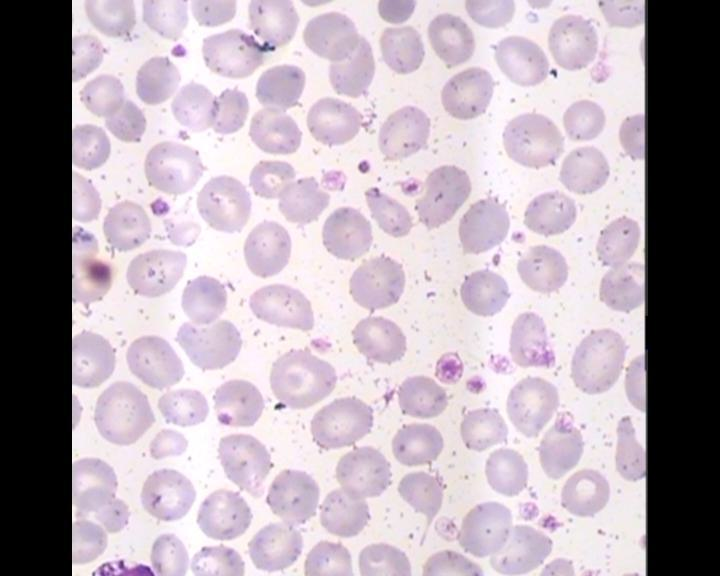baso: (84, 557, 164, 576)
